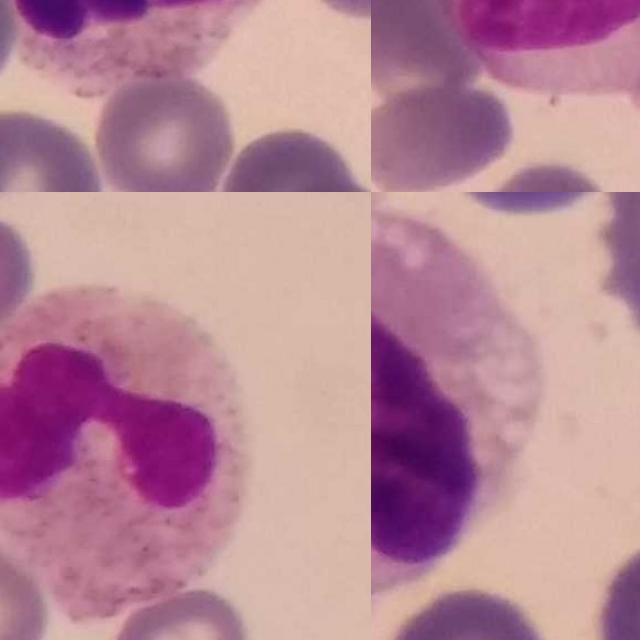Eosinophil: (0, 287, 246, 620)
Monocyte: (371, 206, 542, 604), (431, 0, 640, 100)
Neutrophil: (0, 0, 298, 89)
